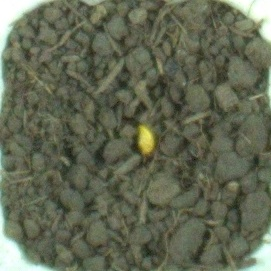chilli seed: (134, 121, 159, 156)
